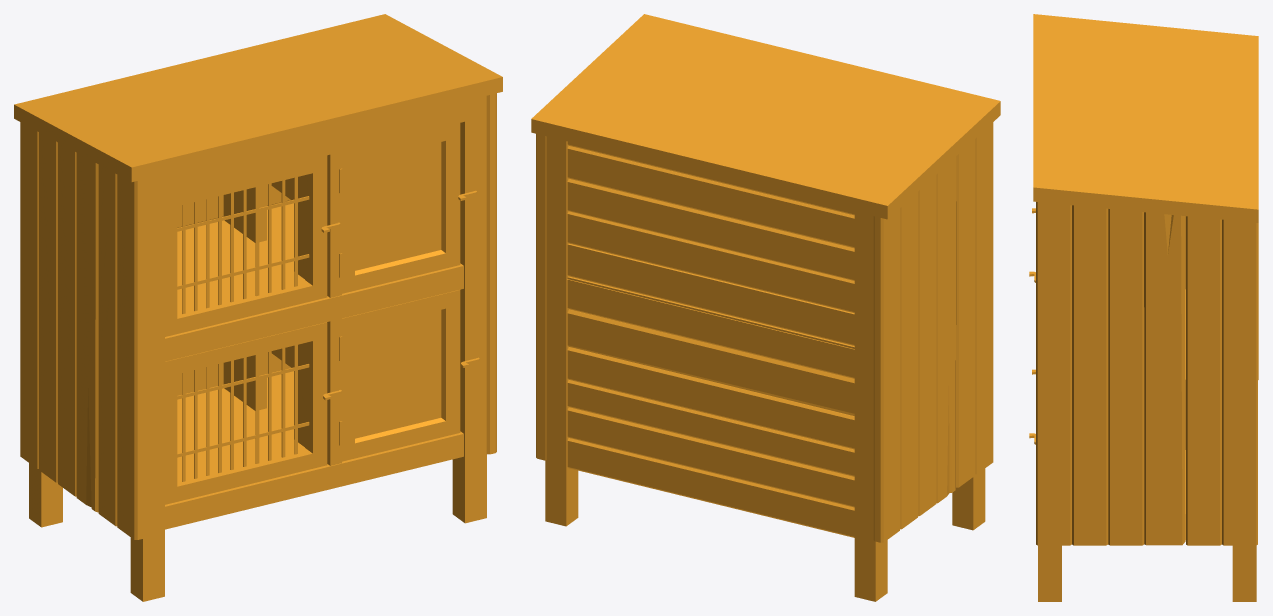
File: SM_Hutch_B.fbx
3 views of the same model, side by side, from view 1: azimuth 30°, elevation 25°; view 2: azimuth 150°, elevation 25°; view 3: azimuth 270°, elevation 25° (orthographic). The views are drawn at different scales.
Parts seen in each view (by area): view 1: hutch-b-base, hutch-b-door-d, hutch-b-door-b, hutch-b-door-c, hutch-b-door-a; view 2: hutch-b-base; view 3: hutch-b-base.
Part boxes in pixels (<box>): hutch-b-base: <box>14,14,502,601</box>; hutch-b-door-d: <box>339,290,460,461</box>; hutch-b-door-b: <box>339,123,460,293</box>; hutch-b-door-c: <box>165,322,327,504</box>; hutch-b-door-a: <box>165,155,327,336</box>; hutch-b-base: <box>531,14,1000,601</box>; hutch-b-base: <box>1033,14,1258,601</box>.
Bounding box in the file's own units: 1.36 × 1.54 × 0.7602.
